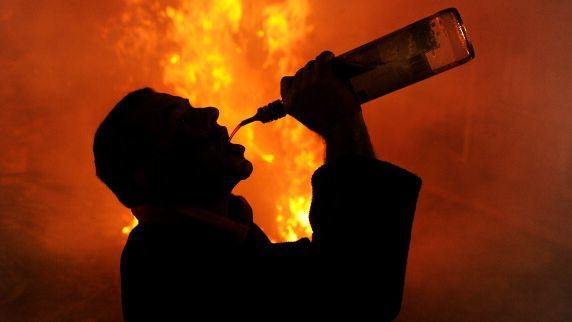drinking: (56, 34, 367, 254)
